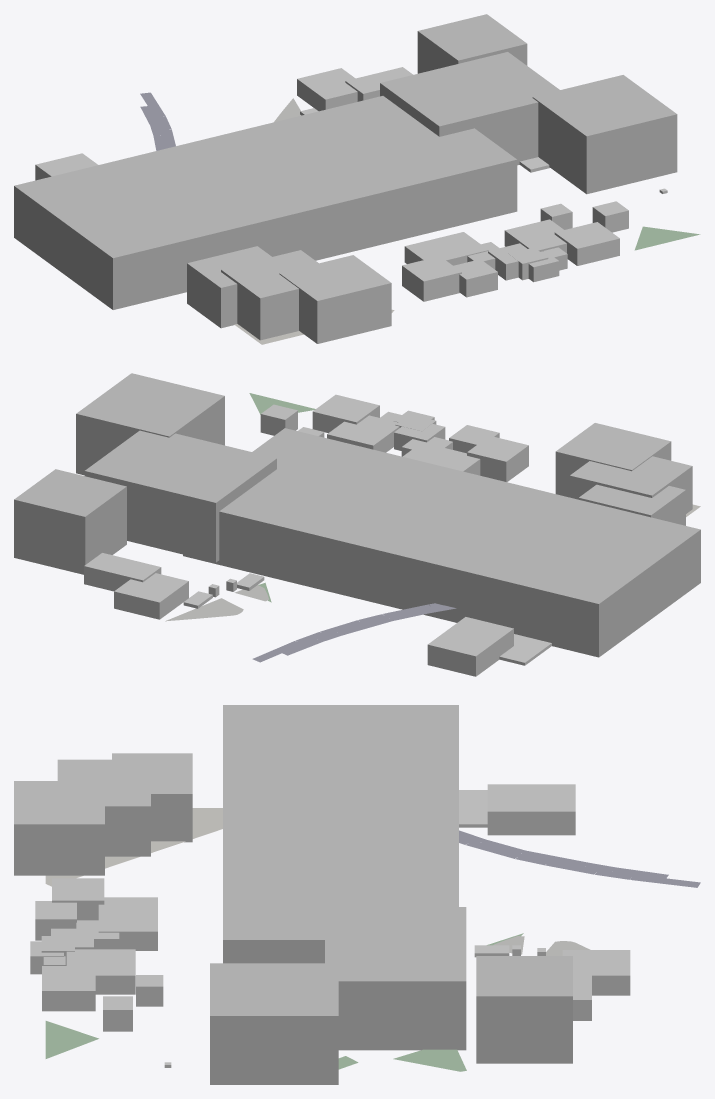
Rendered from 133_104_mid.glb.
3 renders of one model, top to bottom at view 1: azimuth 30°, elevation 25°; view 2: azimuth 150°, elevation 25°; view 3: azimuth 270°, elevation 25°, orthographic. The views are drawn at different scales.
Size of the model in its own units: 606 by 65.89 by 541.
